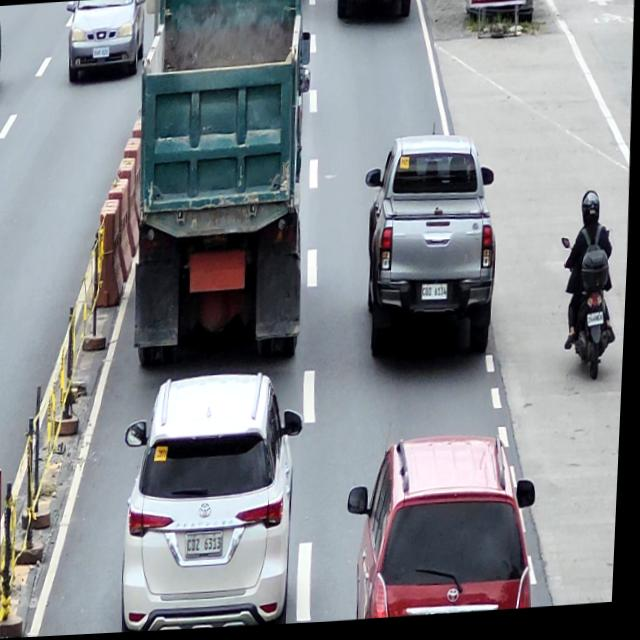Car: (121, 371, 312, 634), (346, 435, 545, 624), (361, 136, 505, 368), (63, 0, 145, 83), (335, 0, 413, 25)
License-Plate: (190, 535, 227, 557), (423, 287, 450, 305), (589, 318, 607, 331), (92, 48, 110, 59)
Motorcycle: (560, 233, 617, 389)
Truck: (129, 0, 320, 374)
